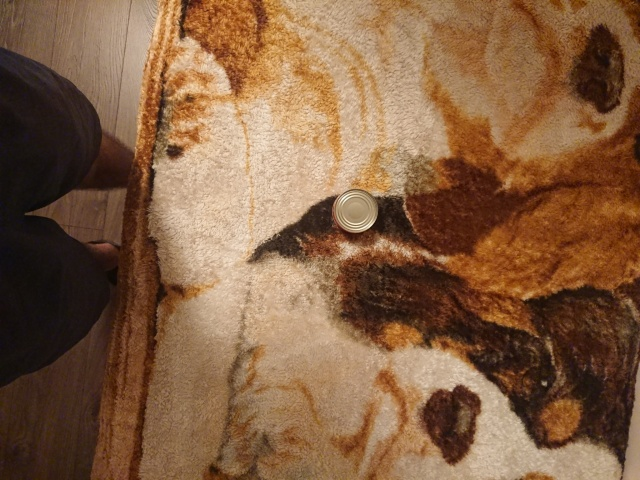Podravka Luncheon Meat 150g: (330, 187, 380, 236)
